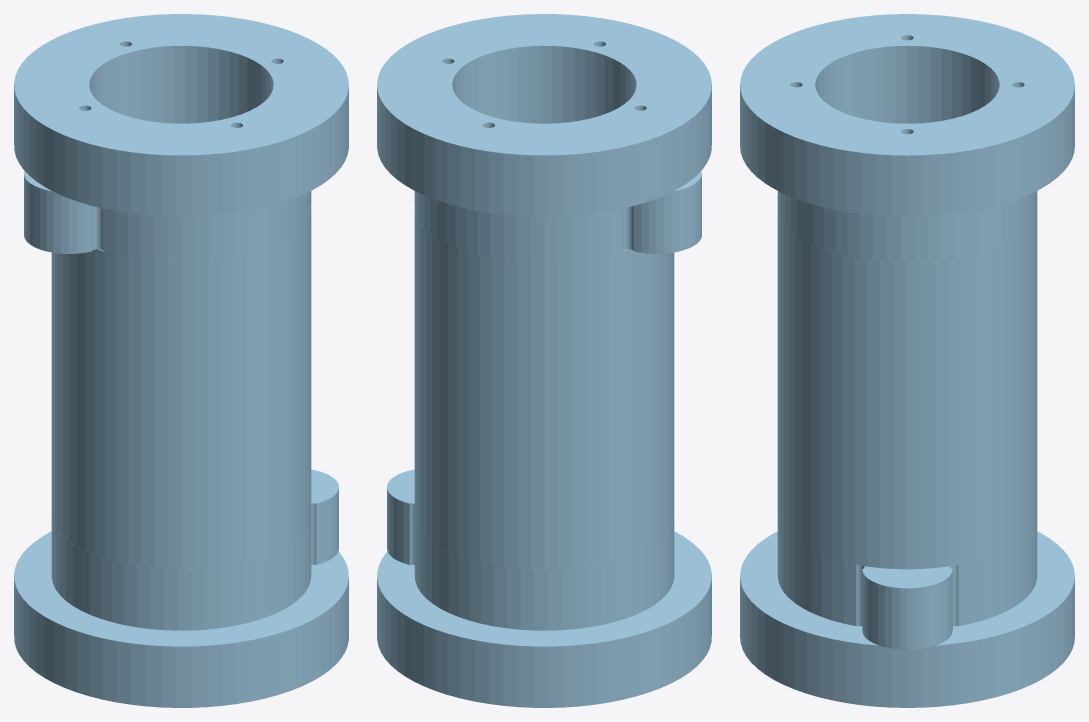
The model's file is wouldchuckit_Maslow4_Router_core_replacement_cylinder.glb.
3 renders of one model, left to right at view 1: azimuth 30°, elevation 25°; view 2: azimuth 150°, elevation 25°; view 3: azimuth 270°, elevation 25°, orthographic.
Visible parts, largest first — view 1: part-0, part-8, part-7, part-2, part-4, part-3, part-6, part-5, part-1; view 2: part-0, part-8, part-7, part-2, part-4, part-3, part-6, part-5, part-1; view 3: part-0, part-8, part-7, part-2, part-4, part-3, part-5, part-6, part-1.
Part boxes in pixels (x1,y1,x2,y2): part-0: [14, 14, 348, 216]; part-8: [14, 531, 348, 707]; part-7: [51, 469, 338, 630]; part-2: [51, 454, 311, 569]; part-4: [51, 270, 311, 384]; part-3: [51, 393, 311, 507]; part-6: [51, 332, 311, 446]; part-5: [51, 207, 311, 323]; part-1: [24, 107, 311, 262]; part-0: [377, 14, 711, 216]; part-8: [377, 531, 711, 707]; part-7: [387, 469, 674, 630]; part-2: [414, 454, 674, 569]; part-4: [414, 270, 674, 384]; part-3: [414, 393, 674, 507]; part-6: [414, 332, 674, 446]; part-5: [414, 207, 674, 323]; part-1: [414, 107, 701, 262]; part-0: [740, 14, 1074, 216]; part-8: [740, 531, 1074, 707]; part-7: [777, 516, 1037, 649]; part-2: [777, 454, 1037, 569]; part-4: [777, 270, 1037, 384]; part-3: [777, 393, 1037, 507]; part-5: [777, 209, 1037, 323]; part-6: [777, 332, 1037, 446]; part-1: [777, 107, 1037, 262].
Bounding box in the file's own units: 93 × 162 × 89.
